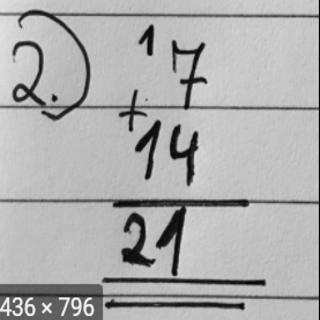.: (43, 86, 65, 106)
1: (159, 207, 185, 273), (136, 118, 159, 180), (137, 20, 158, 58)
2: (12, 34, 48, 107), (122, 209, 151, 266)
3: (8, 294, 25, 320)
4: (170, 122, 201, 187), (1, 292, 11, 318)
6: (78, 295, 95, 320), (26, 296, 35, 320)
7: (169, 37, 208, 108), (54, 292, 69, 318)
9: (71, 295, 82, 320)
